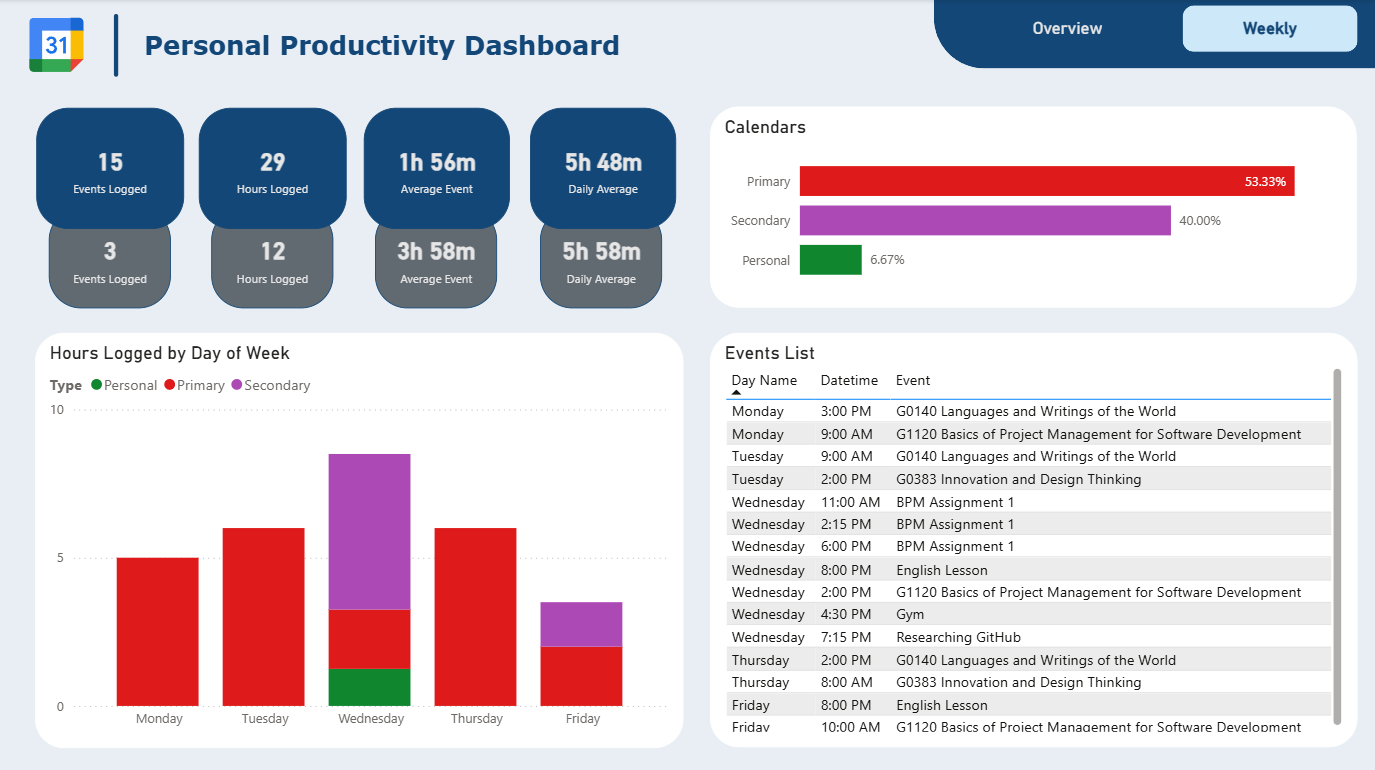

Layout of this report page (visuals, bound fields, positions):
{"tool":"powerbi","page":{"name":"Weekly","canvas":[1280,720],"ordinal":1},"visuals":[{"type":"card","title":"Events Logged","fields":{"Values":["public productivity.Daily Average"]},"box":[502.2,194,113.9,93.3],"z":0},{"type":"card","title":"Events Logged","fields":{"Values":["public productivity.Avg Event Duration (Formatted)"]},"box":[348.5,194,113.9,93.3],"z":1000},{"type":"card","title":"Events Logged","fields":{"Values":["Sum(public productivity.Duration)"]},"box":[196.2,194,113.9,93.3],"z":2000},{"type":"shape","box":[868.3,0,411.8,64.7],"z":3000},{"type":"textbox","box":[129.4,22.9,473.9,39.8],"z":4000},{"type":"image","box":[22.9,18,58.8,50.4],"z":5000},{"type":"shape","box":[74.6,14.2,67.1,58.3],"z":6000},{"type":"card","title":"Events Logged","fields":{"Values":["Count(public productivity.id)"]},"box":[44.9,194,113.9,93.3],"z":7000},{"type":"actionButton","box":[911.8,6.2,163,43.5],"z":8000},{"type":"actionButton","box":[1099.7,6.2,163,43.5],"z":9000},{"type":"card","title":"Events Logged","fields":{"Values":["Count(public productivity.id)"]},"box":[33.3,100.7,137.2,112.5],"z":10000},{"type":"card","title":"Events Logged","fields":{"Values":["Sum(public productivity.Duration)"]},"box":[185.2,100.7,137.2,112.5],"z":11000},{"type":"card","title":"Events Logged","fields":{"Values":["public productivity.Avg Event Duration (Formatted)"]},"box":[338.9,100.7,135.8,112.5],"z":12000},{"type":"columnChart","title":"Hours Logged by Day of Week","fields":{"Category":["public productivity.Day Name"],"Y":["Sum(public productivity.Duration)"],"Series":["public productivity.Type"]},"box":[32.8,310.7,602.9,386.3],"z":13000},{"type":"card","title":"Events Logged","fields":{"Values":["public productivity.Daily Average"]},"box":[492.6,100.7,135.8,112.5],"z":14000},{"type":"barChart","title":"Calendars","fields":{"Y":["CountNonNull(public productivity.Type)"],"Category":["public productivity.Type"]},"box":[660.5,100.3,601.9,187.1],"z":15000},{"type":"tableEx","title":"Events List","fields":{"Values":["public productivity.Day Name","public productivity.Datetime","public productivity.Event"]},"box":[660,310.1,602.4,385.6],"z":16000}]}

Visuals, with their boxes in screenshot pixels (x1, y1, x2, y2), scaled from the page's 1280x720 canvas onto the 1375x770 screenshot:
"Events Logged" card: 539:207:662:307
"Events Logged" card: 374:207:497:307
"Events Logged" card: 211:207:333:307
shape: 933:0:1374:69
textbox: 139:24:648:67
image: 25:19:88:73
shape: 80:15:152:78
"Events Logged" card: 48:207:171:307
actionButton: 979:7:1155:53
actionButton: 1181:7:1356:53
"Events Logged" card: 36:108:183:228
"Events Logged" card: 199:108:346:228
"Events Logged" card: 364:108:510:228
"Hours Logged by Day of Week" columnChart: 35:332:683:745
"Events Logged" card: 529:108:675:228
"Calendars" barChart: 710:107:1356:307
"Events List" tableEx: 709:332:1356:744
